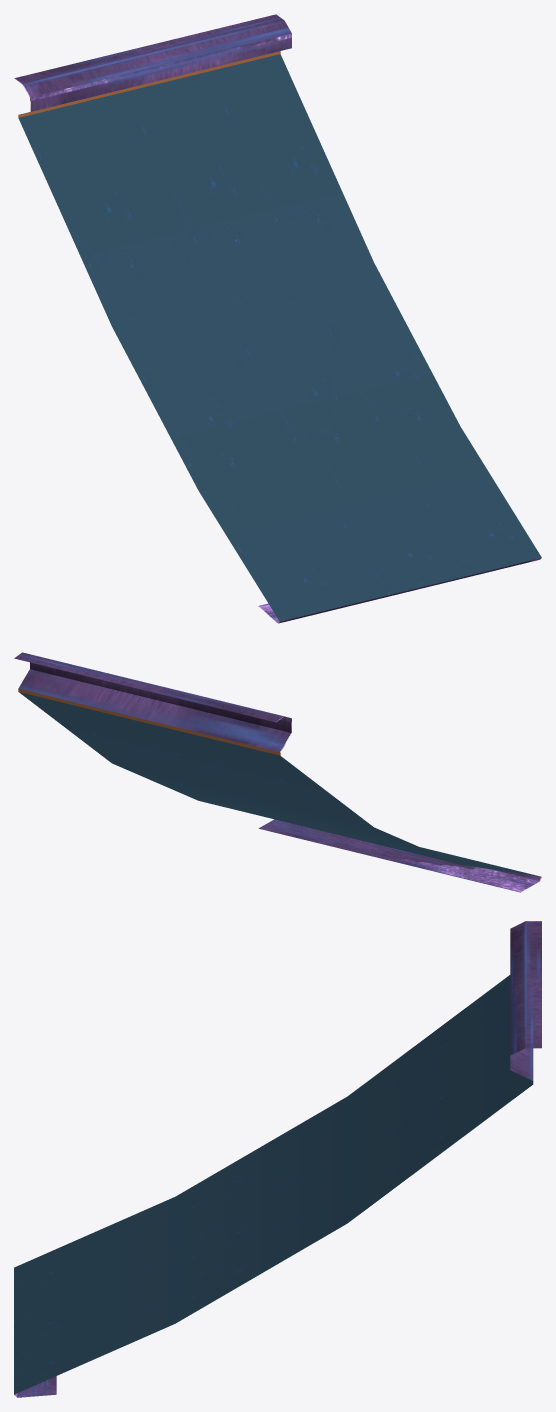
File: temple-roof02-art.glb
3 views of the same model, one above another, from view 1: azimuth 30°, elevation 25°; view 2: azimuth 150°, elevation 25°; view 3: azimuth 270°, elevation 25° (orthographic).
Visible parts, largest first — view 1: TempleRoof02_Art; view 2: TempleRoof02_Art; view 3: TempleRoof02_Art.
Boxes of the visible parts, left/top/right/bottom form: TempleRoof02_Art: left=14, top=14, right=541, bottom=623; TempleRoof02_Art: left=14, top=652, right=541, bottom=892; TempleRoof02_Art: left=14, top=921, right=541, bottom=1397.
Size of the model in its own units: 8 by 10.26 by 14.05.
Materials: 3 (3 with a texture image).
